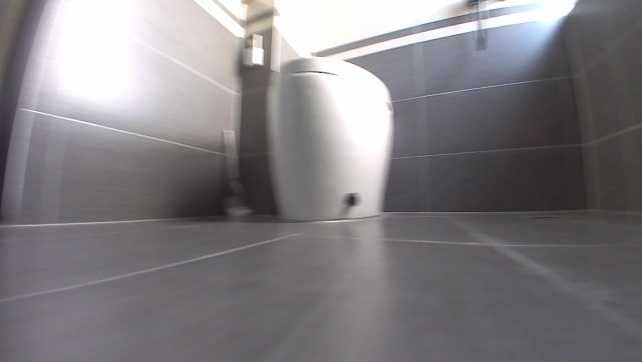toilet: (273, 54, 416, 234)
